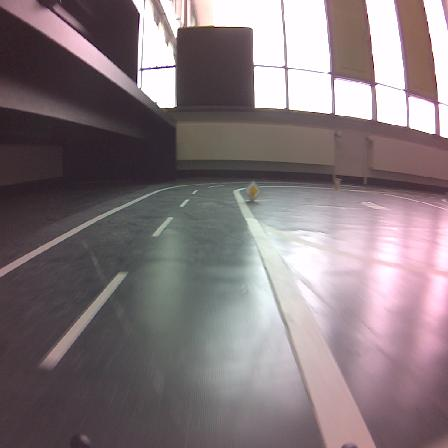PRIORITY_ROAD: (246, 180, 260, 200)
